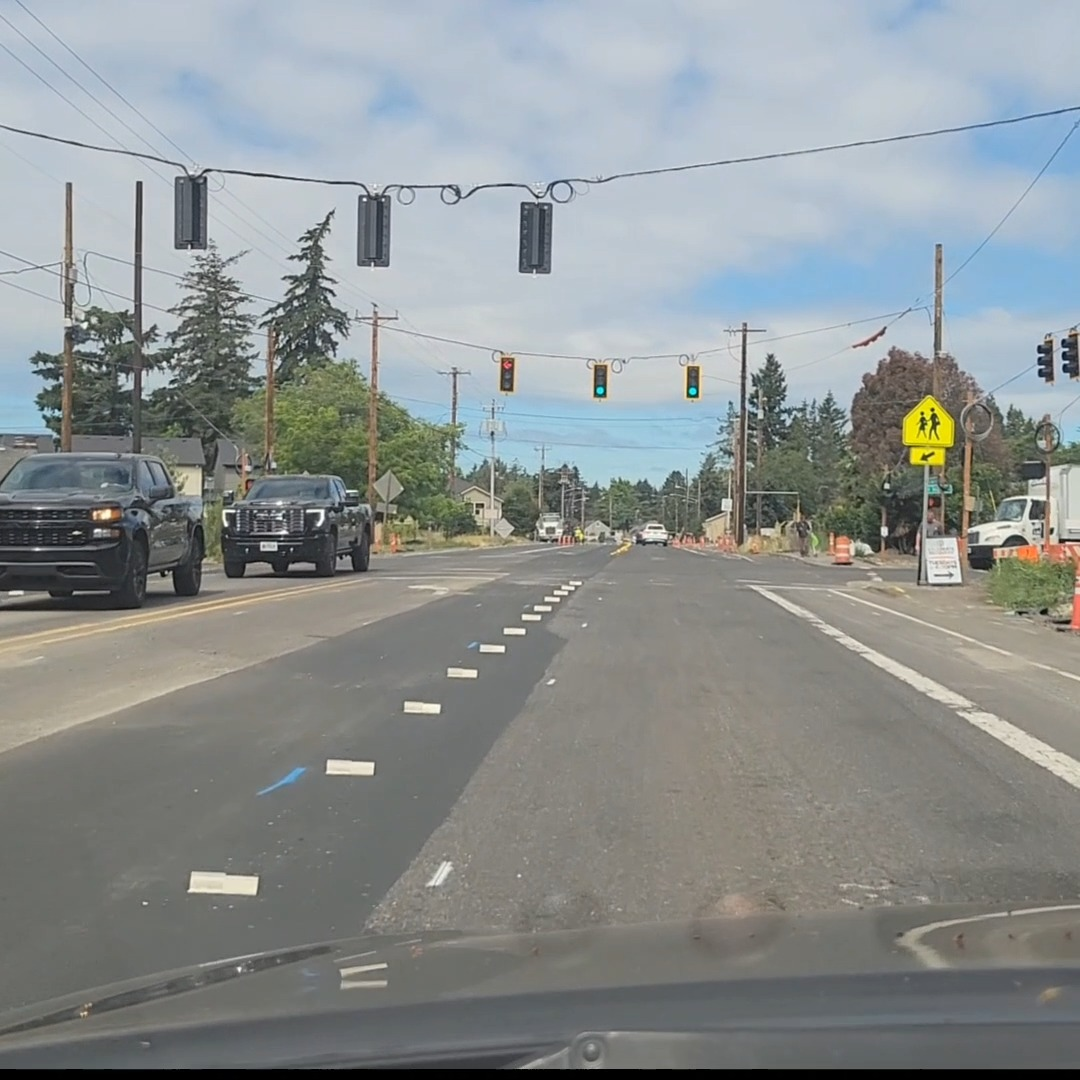car: (2, 451, 206, 606), (218, 475, 374, 579), (633, 522, 669, 546)
